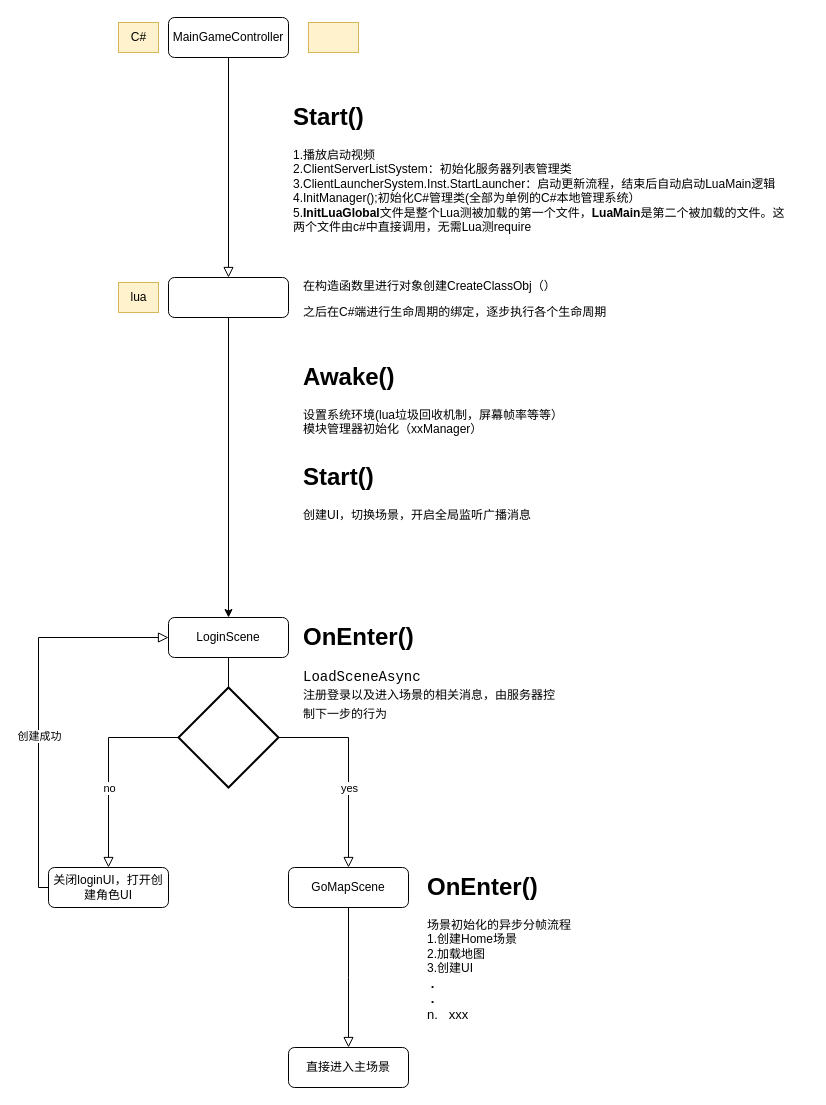
The diagram is 826 pixels wide and 1105 high, and some of its shapes have lost their labels. The shapes that lost their labels are listed below. From the top down, each one's centre as x and y in pixels, then its label:
At pixel 333 37: "游戏入口".
At pixel 228 297: "LuaMain".
At pixel 228 737: "是否创建role".
